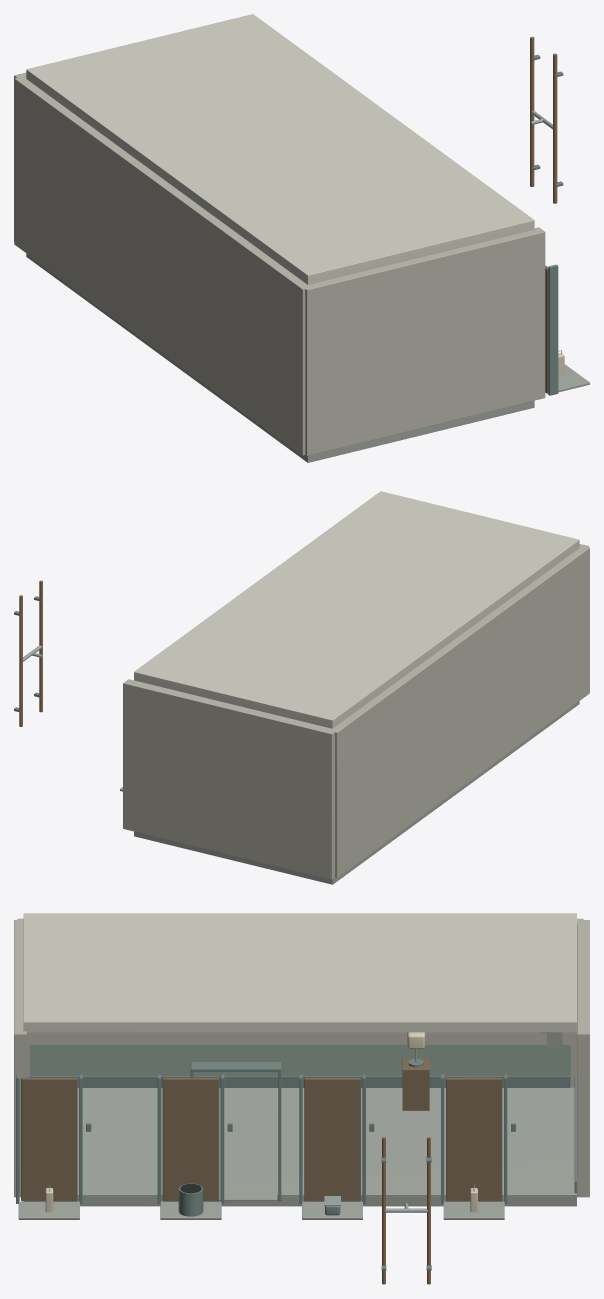
The model's file is F17_finish.glb.
The picture shows the model from 3 angles, top to bottom: view 1: azimuth 30°, elevation 25°; view 2: azimuth 150°, elevation 25°; view 3: azimuth 270°, elevation 25°; orthographic projection. The views are drawn at different scales.
Parts seen in each view (by area): view 1: F17_C2_wall, F17_C2_ceiling, F17_C2_tile, F17_C2_metal, F17_C2_rust; view 2: F17_C2_wall, F17_C2_ceiling, F17_C2_tile, F17_C2_rust; view 3: F17_C2_ceiling, F17_C2_tile, F17_C2_wood, F17_C2_paint, F17_C2_wall, F17_C2_metal, F17_C2_rust, F17_C2_paper.
Part boxes in pixels (left/top/right/bottom): F17_C2_wall: left=14, top=72, right=545, bottom=455; F17_C2_ceiling: left=26, top=14, right=534, bottom=284; F17_C2_tile: left=26, top=253, right=589, bottom=462; F17_C2_metal: left=533, top=54, right=563, bottom=395; F17_C2_rust: left=530, top=36, right=557, bottom=203; F17_C2_wall: left=123, top=544, right=589, bottom=879; F17_C2_ceiling: left=134, top=491, right=579, bottom=728; F17_C2_tile: left=120, top=701, right=579, bottom=884; F17_C2_rust: left=19, top=580, right=42, bottom=726; F17_C2_ceiling: left=23, top=913, right=576, bottom=1032; F17_C2_tile: left=18, top=1087, right=576, bottom=1219; F17_C2_wood: left=21, top=1058, right=502, bottom=1201; F17_C2_paint: left=30, top=1044, right=570, bottom=1076; F17_C2_wall: left=14, top=918, right=589, bottom=1197; F17_C2_metal: left=16, top=1058, right=576, bottom=1270; F17_C2_rust: left=382, top=1137, right=430, bottom=1284; F17_C2_paper: left=45, top=1032, right=477, bottom=1212.
Size of the model in its own units: 7.87 by 3.16 by 8.95.
